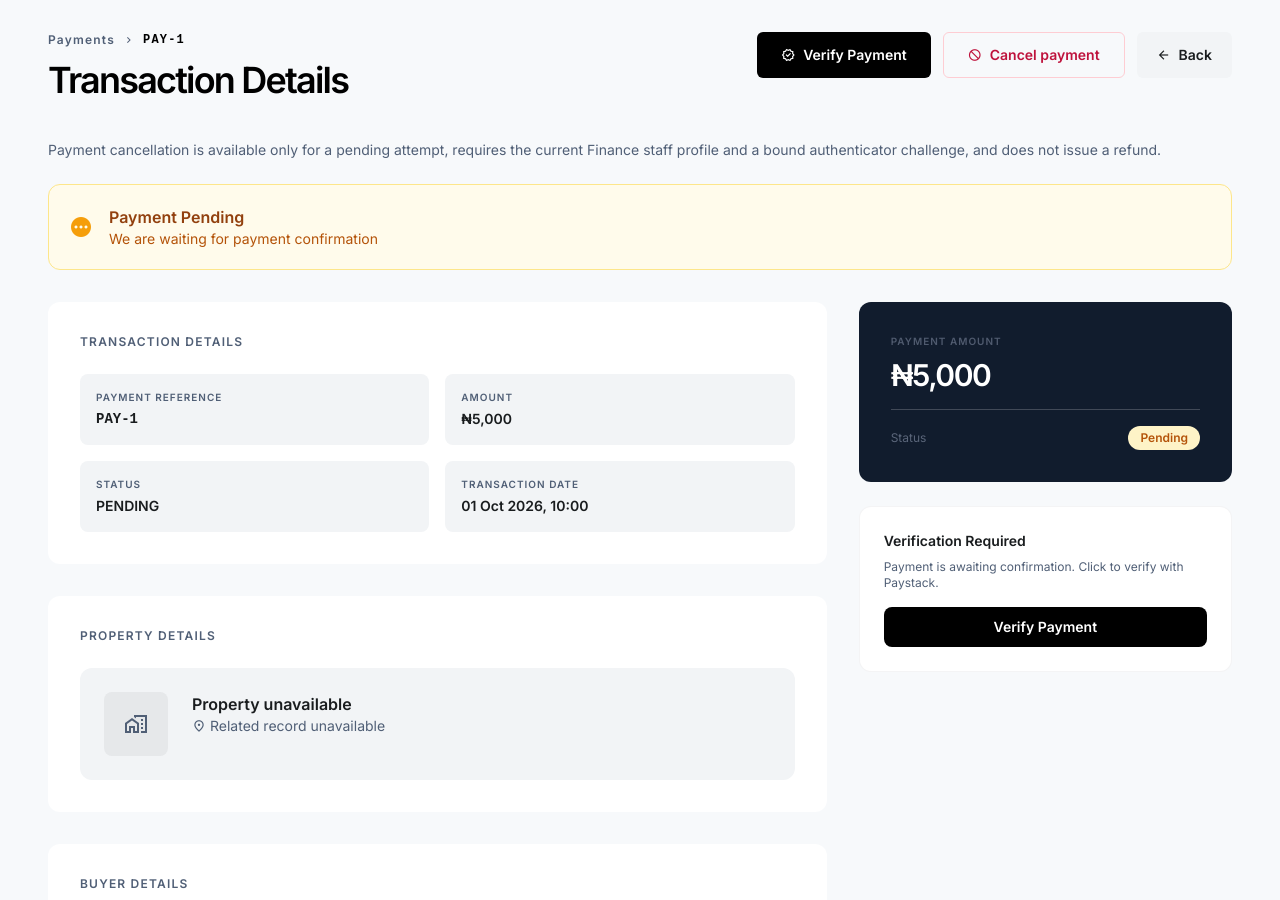
it: AdminPaymentDetails protected cancellation › binds the documented pending-payment cancellation and refreshes from its response
Click the button "Cancel payment". click: (1034,55)
box: x1=943 y1=32 x2=1125 y2=78
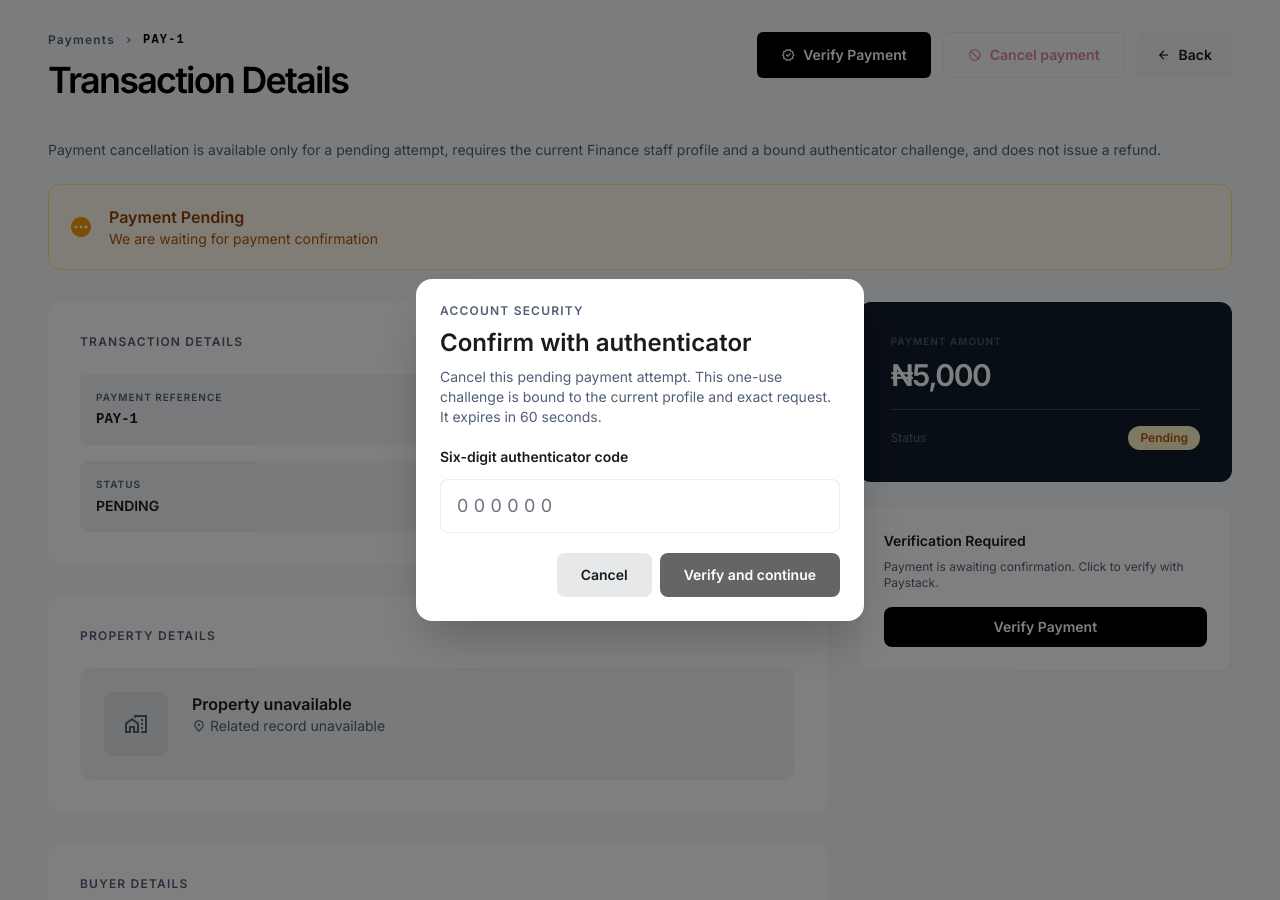
Type "123456" into the field labelled "Six-digit authenticator code". click: (640,506)
box: x1=440 y1=479 x2=840 y2=533
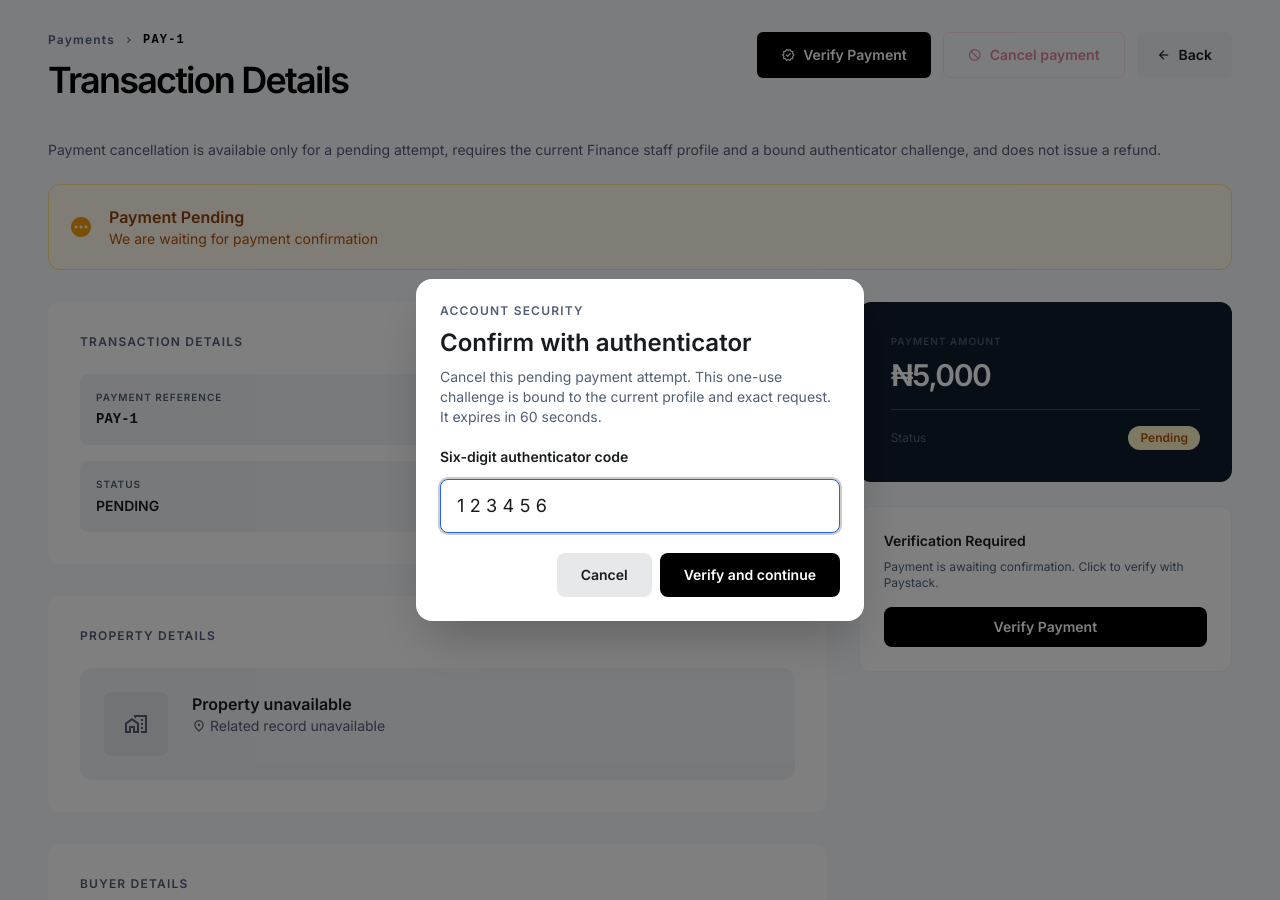
Expected: the button "Verify and continue" is enabled
Click the button "Verify and continue". click: (750,575)
box: x1=660 y1=553 x2=840 y2=597
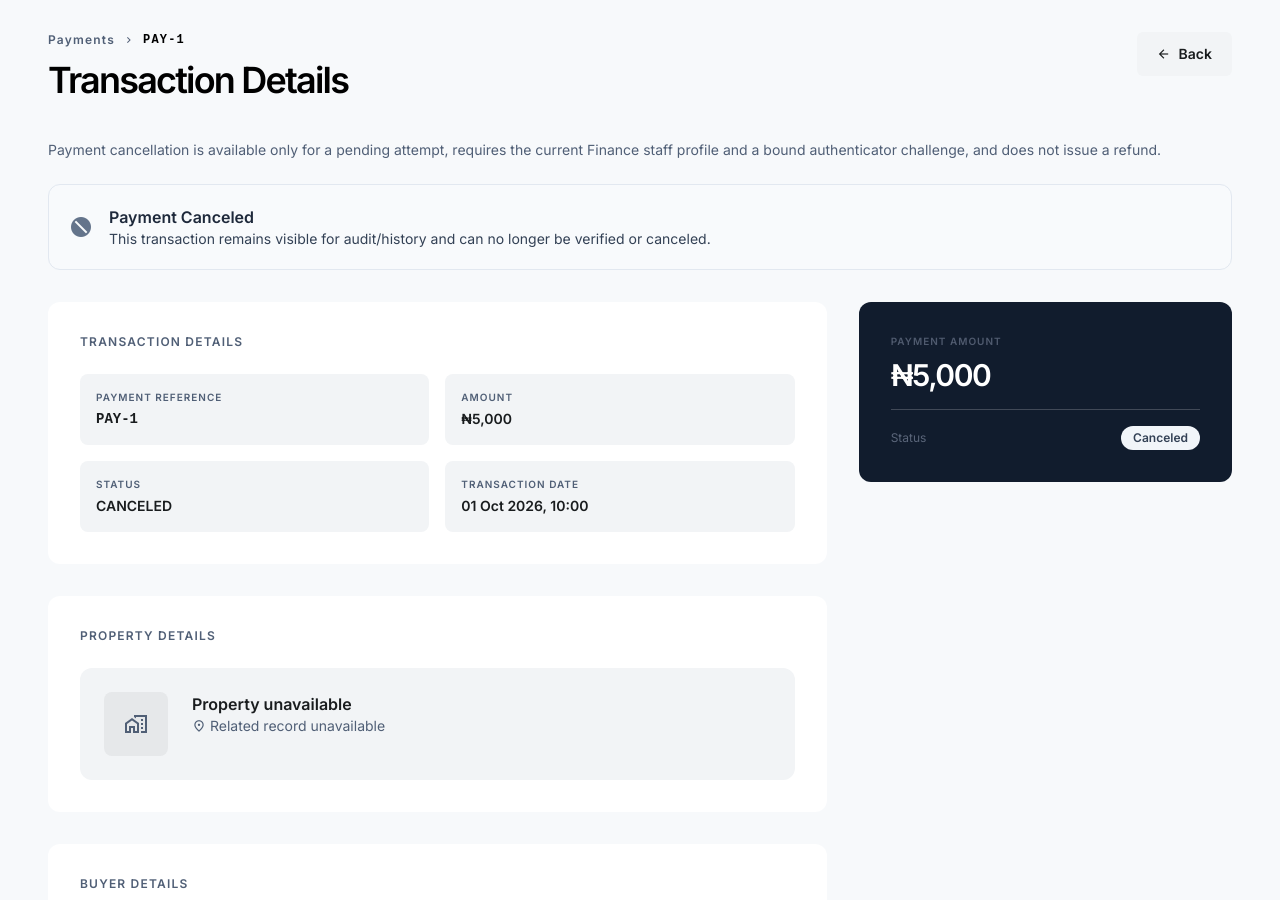
Expected: the text "does not issue a refund" is shown, x1=48 y1=141 x2=1161 y2=158
Expected: the text "Payment Canceled" is shown, x1=109 y1=207 x2=254 y2=227
Expected: the button "Cancel payment" is gone
